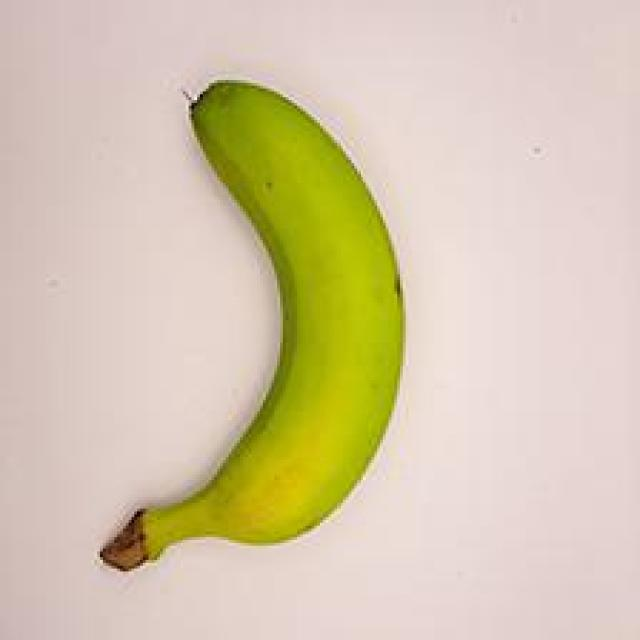Unripe: (86, 64, 422, 591)
